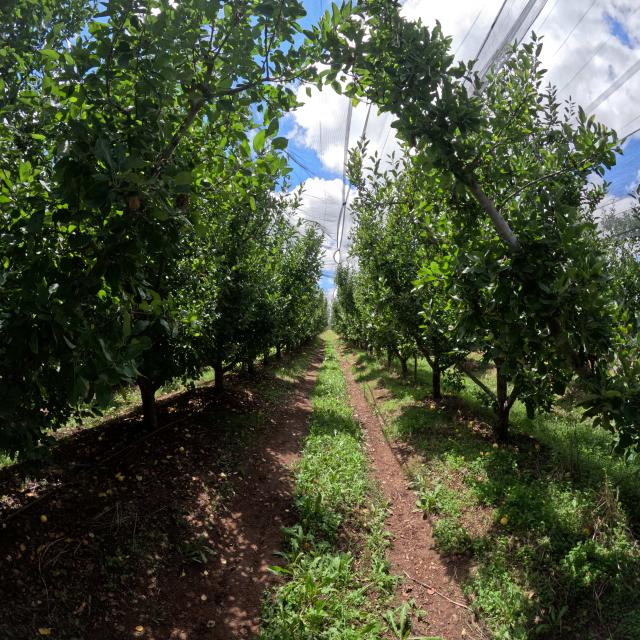-FireBlight-: (174, 195, 190, 211), (127, 195, 142, 210)
